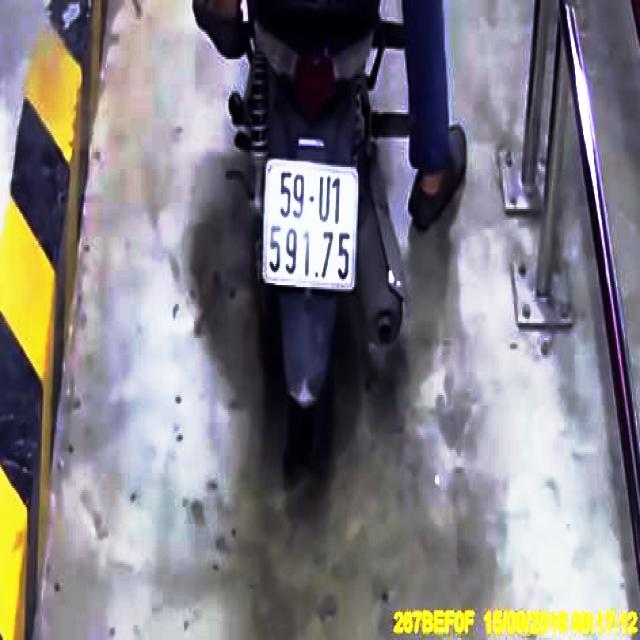license_plate: (266, 163, 362, 294)
